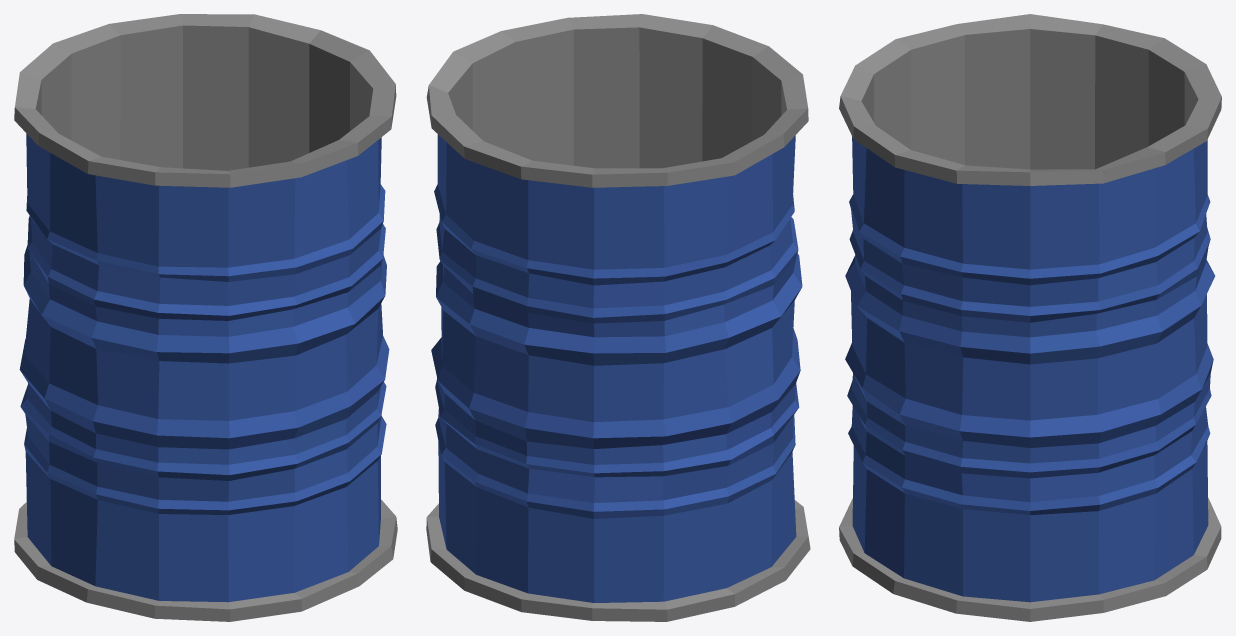
The model's file is Бочка.fbx.
The picture shows the model from 3 angles, left to right: view 1: azimuth 30°, elevation 25°; view 2: azimuth 150°, elevation 25°; view 3: azimuth 270°, elevation 25°; orthographic projection.
Parts seen in each view (by area): view 1: Циліндр; view 2: Циліндр; view 3: Циліндр.
Part boxes in pixels (x1,y1,x2,y2): Циліндр: [14, 14, 397, 621]; Циліндр: [426, 14, 810, 621]; Циліндр: [839, 14, 1221, 621].
Bounding box in the file's own units: 216 × 279 × 216.
